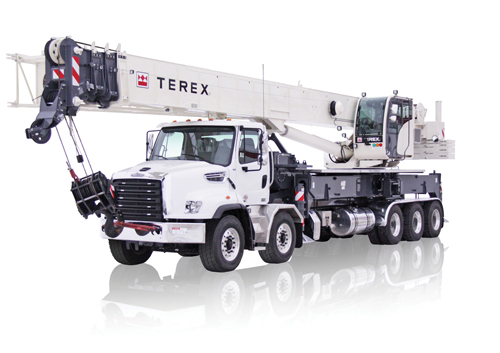crane: (22, 48, 454, 271)
